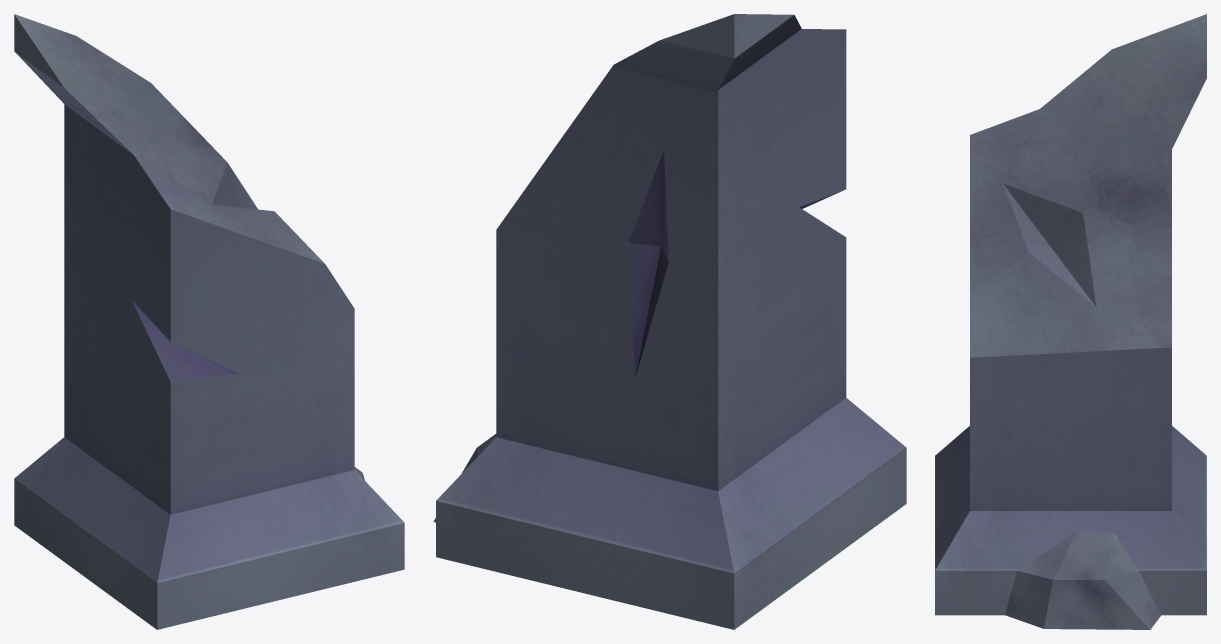
File: col2.fbx
The picture shows the model from 3 angles, left to right: view 1: azimuth 30°, elevation 25°; view 2: azimuth 150°, elevation 25°; view 3: azimuth 270°, elevation 25°; orthographic projection. The views are drawn at different scales.
Parts seen in each view (by area): view 1: ModularAssetsDisplay.004; view 2: ModularAssetsDisplay.004; view 3: ModularAssetsDisplay.004.
Boxes of the visible parts, x1,y1,x2,y2 form: ModularAssetsDisplay.004: [14, 14, 404, 629]; ModularAssetsDisplay.004: [433, 14, 906, 629]; ModularAssetsDisplay.004: [935, 14, 1206, 629].
Size of the model in its own units: 46.3 by 80.95 by 41.01.
